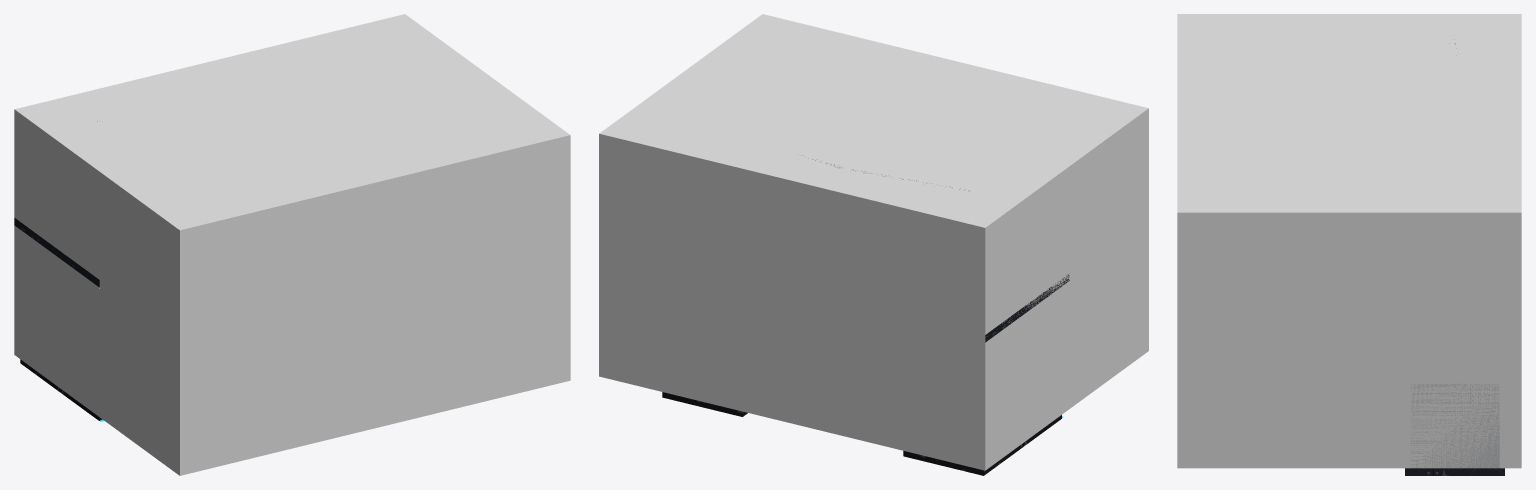
The model's file is Furn_Workstation_2Mon.001.gltf.
The picture shows the model from 3 angles, left to right: view 1: azimuth 30°, elevation 25°; view 2: azimuth 150°, elevation 25°; view 3: azimuth 270°, elevation 25°; orthographic projection. The views are drawn at different scales.
Visible parts, largest first — view 1: Furn_Workstation_2Mon.001_COL, Furn_Workstation_2Mon.001; view 2: Furn_Workstation_2Mon.001_COL, Furn_Workstation_2Mon.001; view 3: Furn_Workstation_2Mon.001_COL, Furn_Workstation_2Mon.001.
Part boxes in pixels (x1,y1,x2,y2): Furn_Workstation_2Mon.001_COL: (14, 14, 570, 475); Furn_Workstation_2Mon.001: (14, 121, 104, 421); Furn_Workstation_2Mon.001_COL: (599, 14, 1148, 470); Furn_Workstation_2Mon.001: (662, 159, 1069, 475); Furn_Workstation_2Mon.001_COL: (1177, 14, 1521, 468); Furn_Workstation_2Mon.001: (1405, 43, 1504, 475).
Size of the model in its own units: 2.11 by 1.31 by 1.55.
Materials: 10 (3 with a texture image).
